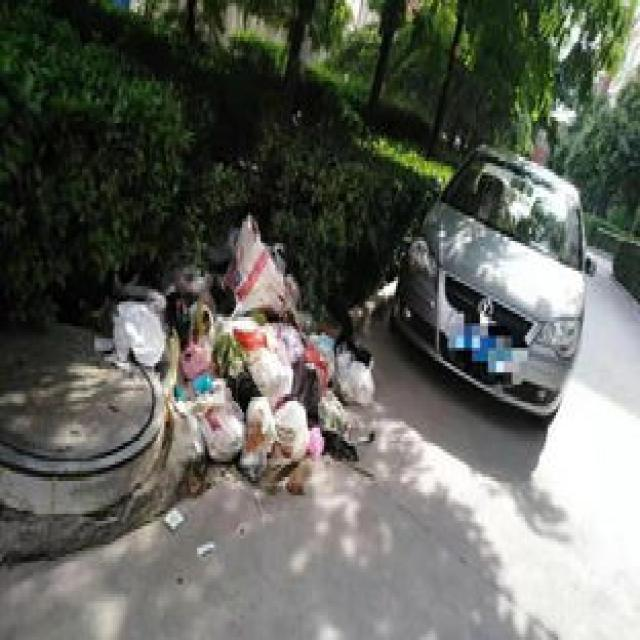garbage: (90, 209, 374, 560)
